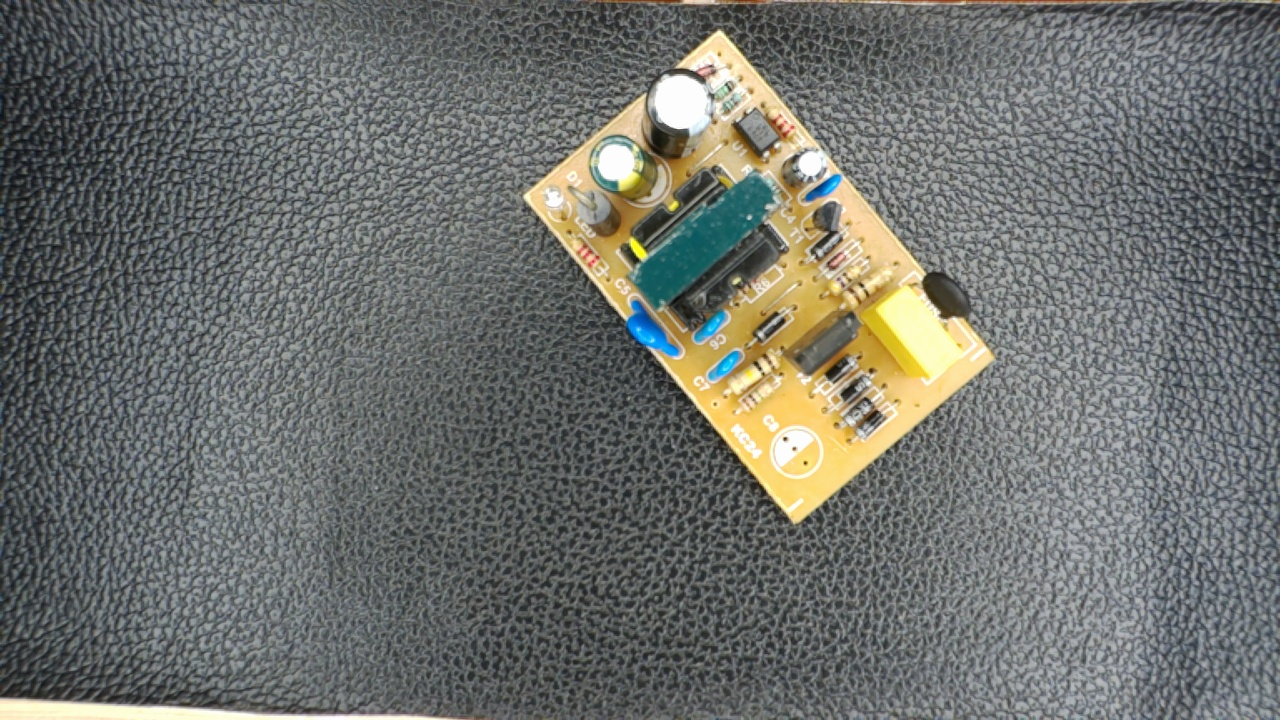fuse: (905, 266, 974, 326)
mov: (620, 293, 683, 362)
optocoupler: (734, 99, 783, 162)
